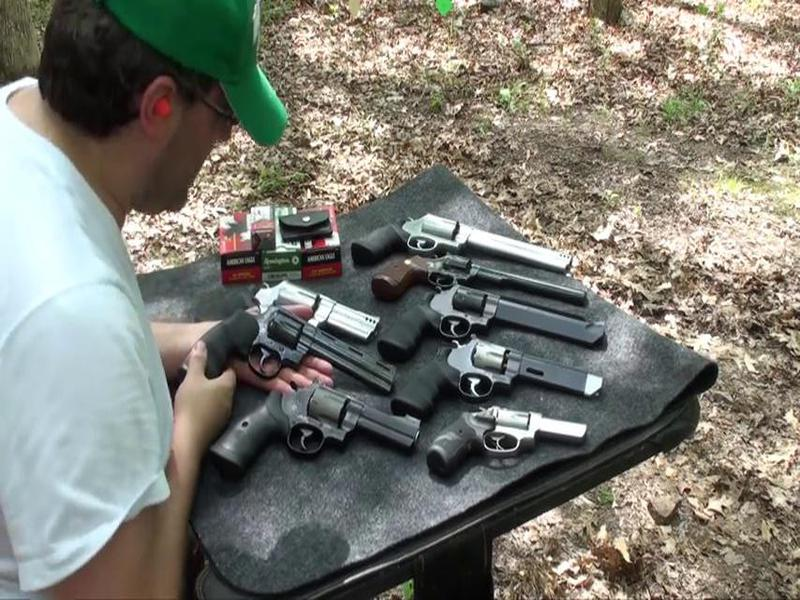Revolver: (199, 295, 406, 404)
